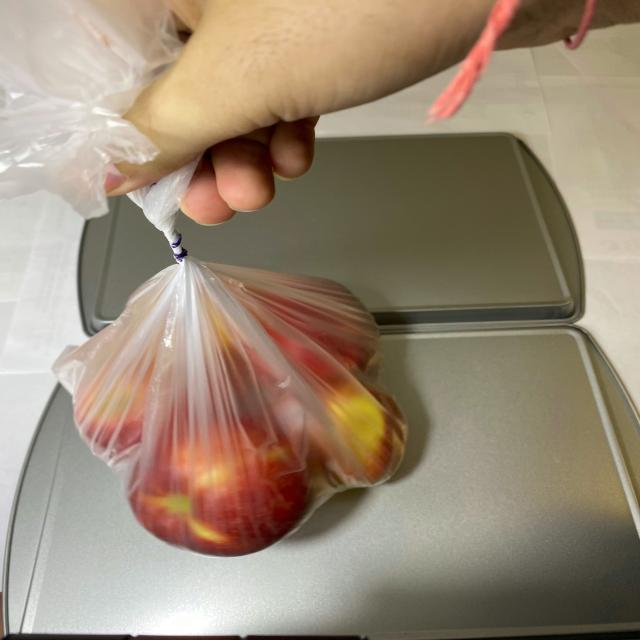apple: (67, 270, 413, 560)
